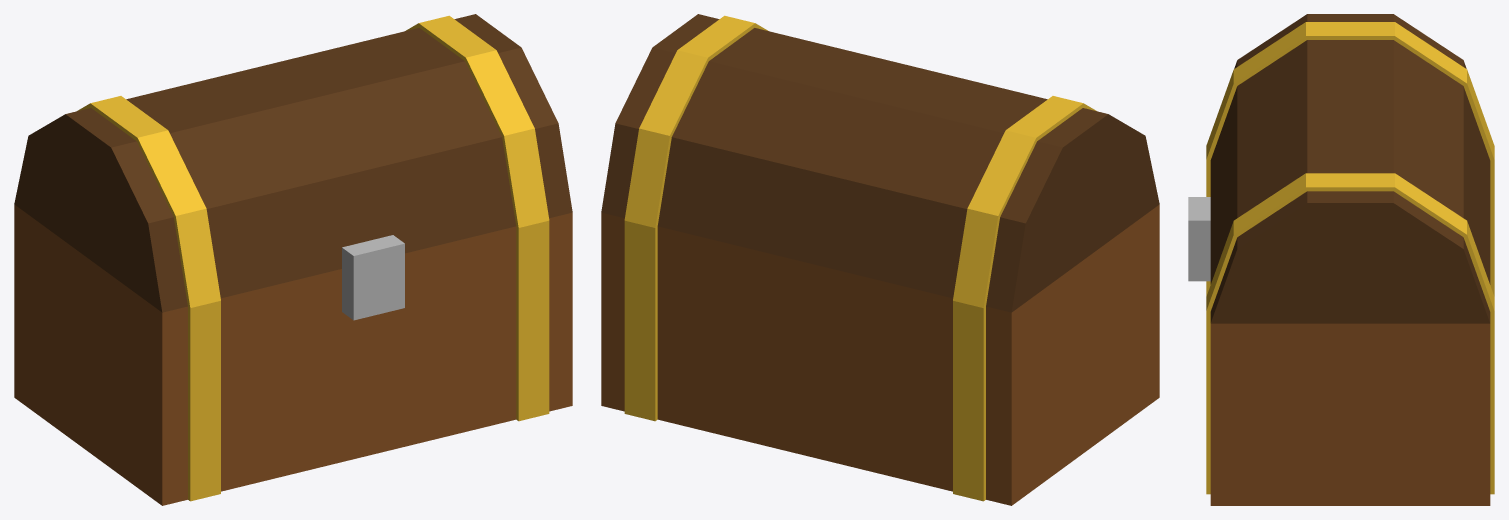
The model's file is treasure_chest.obj.
3 renders of one model, left to right at view 1: azimuth 30°, elevation 25°; view 2: azimuth 150°, elevation 25°; view 3: azimuth 270°, elevation 25°, orthographic. The views are drawn at different scales.
Visible parts, largest first — view 1: treasure_chest; view 2: treasure_chest; view 3: treasure_chest.
Boxes of the visible parts, x1,y1,x2,y2 form: treasure_chest: (14,14,572,505); treasure_chest: (601,14,1159,505); treasure_chest: (1188,14,1494,505).
Bounding box in the file's own units: 4 × 3.03 × 2.74.
Materials: 1 (1 with a texture image).
